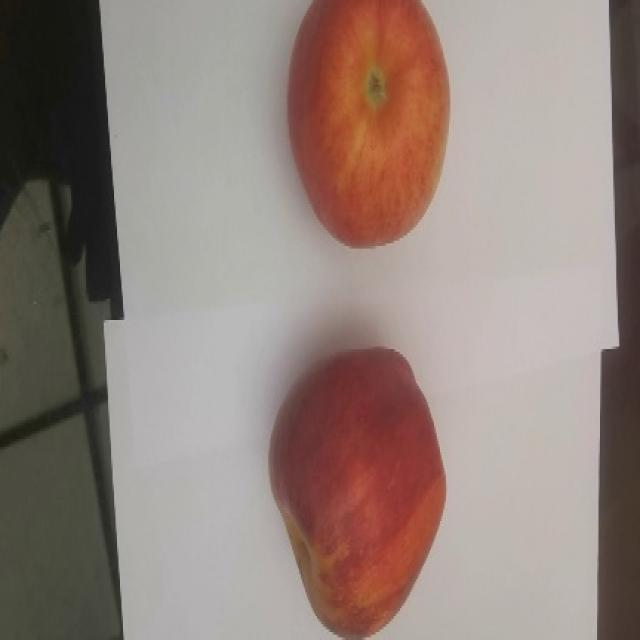Apple: (267, 345, 446, 638), (286, 0, 450, 248)
